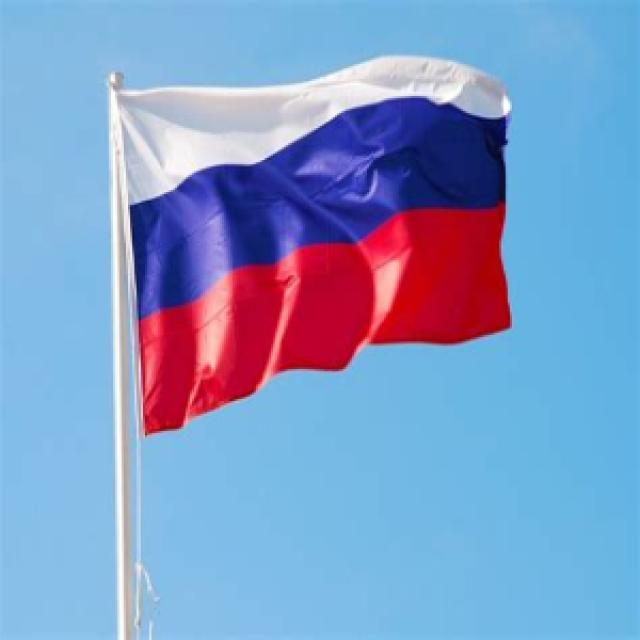russia: (95, 57, 545, 439)
